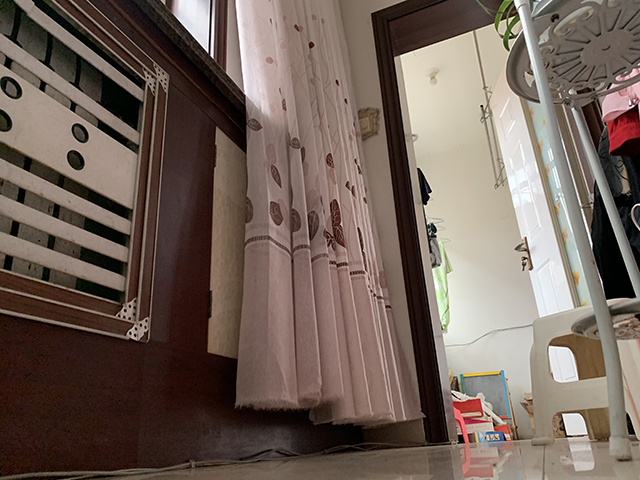curtain: (232, 1, 429, 432)
stool: (525, 296, 640, 447)
